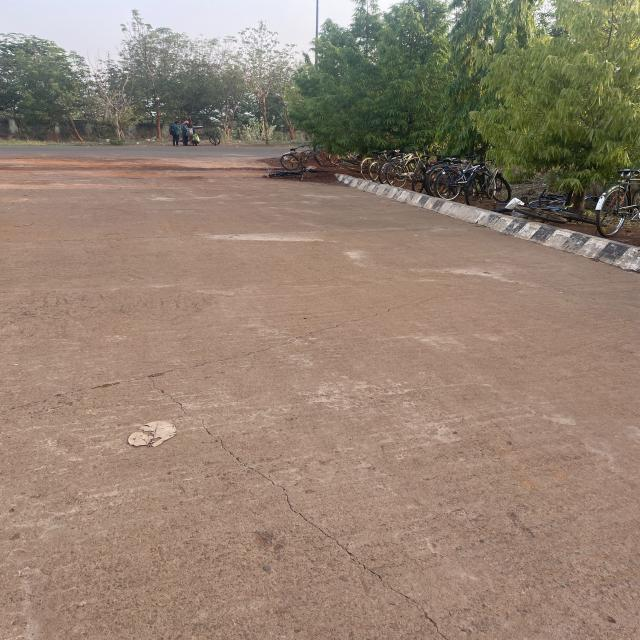D01: (193, 382, 397, 604)
